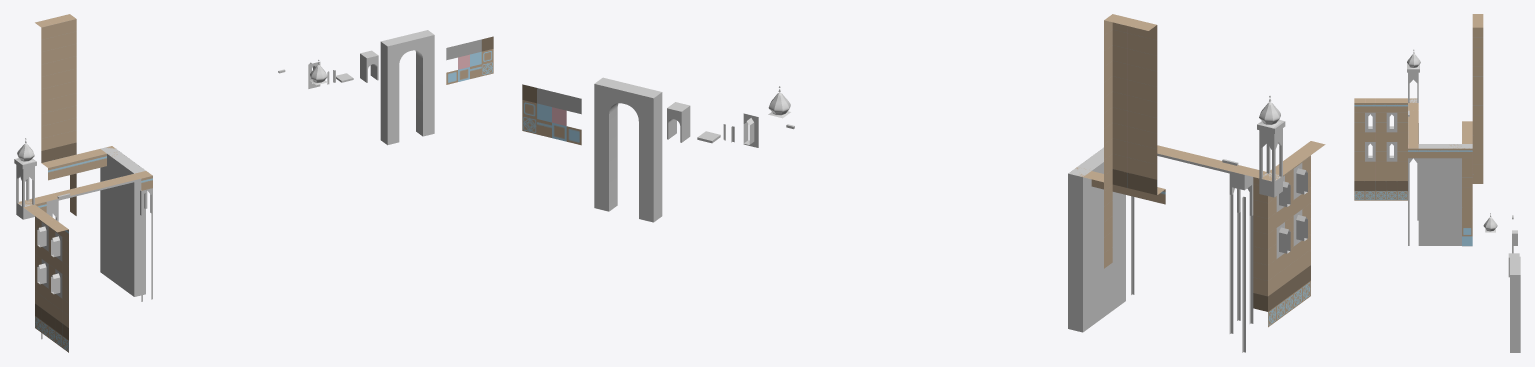
Rendered from LEVEL1_TEST.fbx.
3 renders of one model, left to right at view 1: azimuth 30°, elevation 25°; view 2: azimuth 150°, elevation 25°; view 3: azimuth 270°, elevation 25°, orthographic. The views are drawn at different scales.
Parts seen in each view (by area): view 1: Cube.008, Plane.031, Cube.022, Plane.005, Cube.009, Plane.013, Plane.027, Cube.017, Cube.018, Plane.038, Plane.015, Plane.021 (+2 smaller); view 2: Cube.008, Plane.031, Cube.022, Plane.005, Plane.032, Plane.022, Cube.009, Plane.013, Cube.017, Plane.038, Cube.004, Plane.021 (+3 smaller); view 3: Cube.008, Plane.005, Plane.032, Cube.018, Cube.022, Plane.028, Plane.019, Plane.016, Plane.020, Plane.021, Plane.013, Cube.009 (+9 smaller).
Part boxes in pixels (x1,y1,x2,y2): Cube.008: (100,147,145,296); Plane.031: (41,19,76,150); Cube.022: (380,30,434,145); Plane.005: (35,217,68,327); Cube.009: (14,158,36,219); Plane.013: (17,173,140,205); Plane.027: (48,154,106,180); Cube.017: (360,50,378,82); Cube.018: (107,166,138,269); Plane.038: (41,142,76,162); Plane.015: (41,146,115,167); Plane.021: (35,316,68,352); Cube.008: (1068,147,1125,332); Plane.031: (1112,22,1157,179); Cube.022: (594,77,662,222); Plane.005: (1268,156,1310,295); Plane.032: (1104,20,1112,268); Plane.022: (1253,184,1267,296); Cube.009: (1257,120,1285,197); Plane.013: (1157,145,1280,181); Cube.017: (667,102,690,142); Plane.038: (1112,169,1157,195); Cube.004: (1229,194,1233,333); Plane.021: (1268,281,1310,327); Cube.008: (1418,144,1472,245); Plane.005: (1354,112,1407,180); Plane.032: (1472,27,1483,183); Cube.018: (1418,158,1461,236); Cube.022: (1510,256,1520,352); Plane.028: (1462,158,1472,226); Plane.019: (1408,148,1472,158); Plane.016: (1354,103,1407,112); Plane.020: (1354,181,1407,190); Plane.021: (1354,191,1407,200); Plane.013: (1408,98,1418,143); Cube.009: (1407,63,1419,102).
Bounding box in the file's own units: 9131 × 4495 × 3093.
